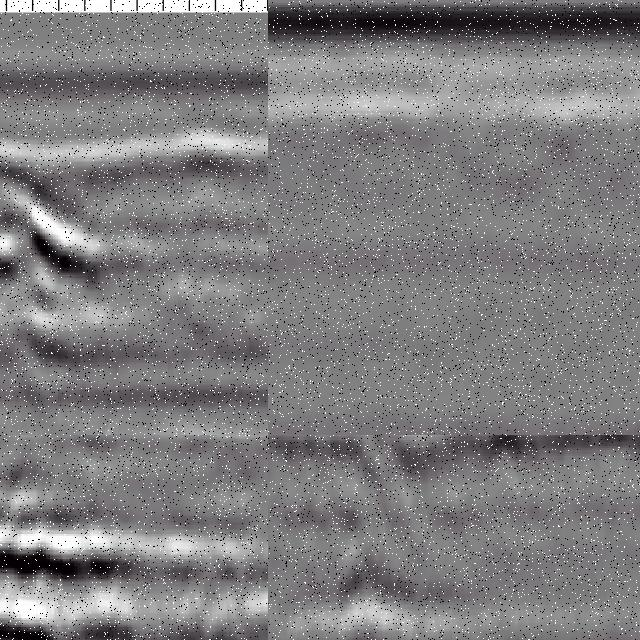crack: (1, 152, 168, 356), (269, 31, 285, 436)
loose: (1, 478, 142, 640), (329, 436, 407, 640)
